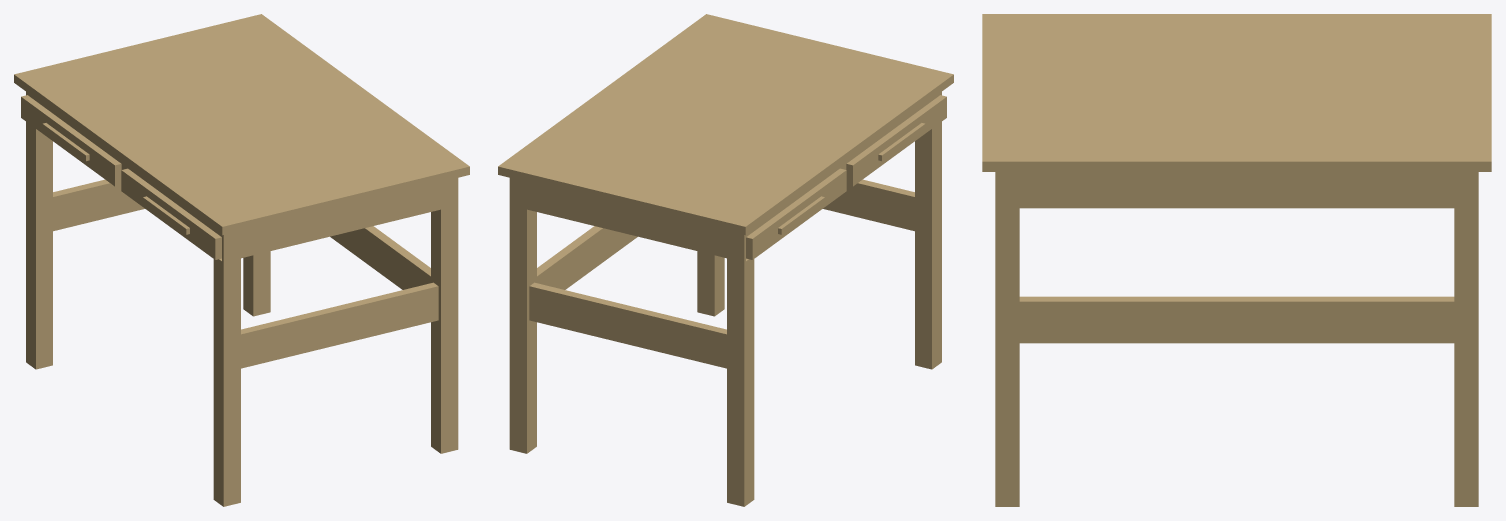
Rendered from Furniture - Bed table .fbx.
3 views of the same model, side by side, from view 1: azimuth 30°, elevation 25°; view 2: azimuth 150°, elevation 25°; view 3: azimuth 270°, elevation 25° (orthographic). The views are drawn at different scales.
Parts seen in each view (by area): view 1: Bed table body, Bed table drawer 2- L, Bed table drawer 1- R; view 2: Bed table body, Bed table drawer 1- R, Bed table drawer 2- L; view 3: Bed table body.
Part boxes in pixels (left/top/right/bottom): Bed table body: left=14, top=14, right=469, bottom=506; Bed table drawer 2- L: left=21, top=95, right=121, bottom=186; Bed table drawer 1- R: left=121, top=168, right=221, bottom=259; Bed table body: left=498, top=14, right=953, bottom=506; Bed table drawer 1- R: left=846, top=95, right=946, bottom=186; Bed table drawer 2- L: left=746, top=168, right=846, bottom=259; Bed table body: left=982, top=14, right=1491, bottom=506.
Bounding box in the file's own units: 40.14 × 43.57 × 57.62.
